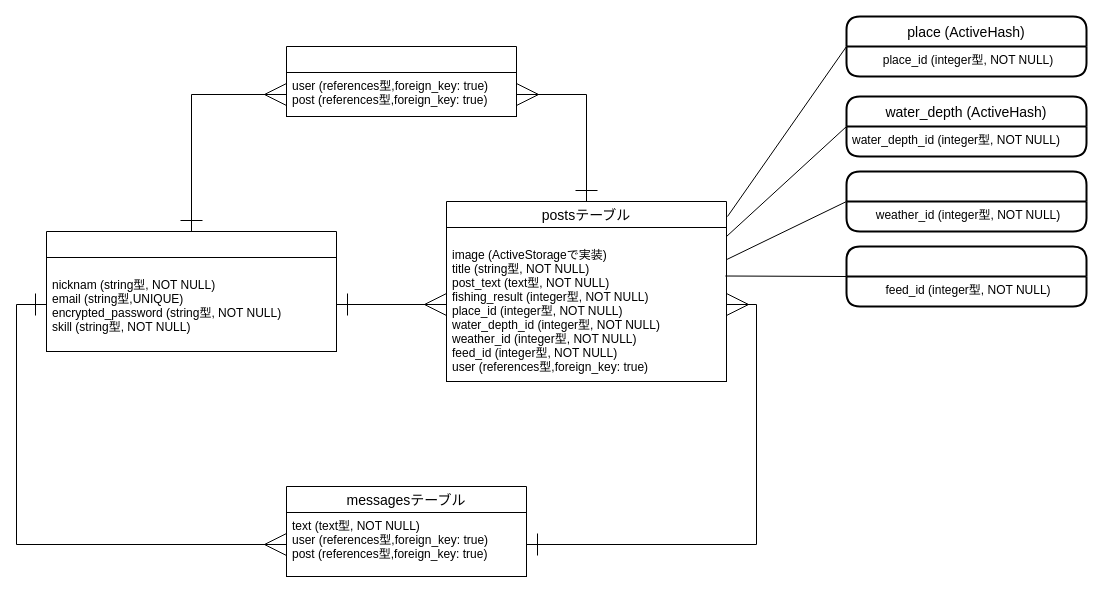
Some shapes in this 1103 by 593 pixel diagram are drawn without their labels. The shapes that lost their labels are listed below. From the top down, each one's box as (x1, y1, x2, y2) in pixels, then its label:
(286, 46, 516, 116): likesテーブル
(845, 170, 1087, 232): weather (ActiveHash)
(46, 230, 336, 352): usersテーブル
(845, 245, 1087, 307): feed (ActiveHash)
